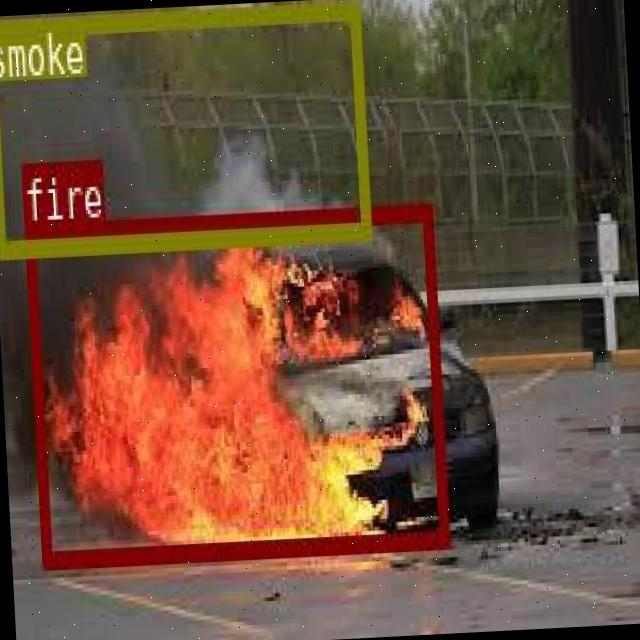fire: (24, 202, 446, 565)
smoke: (0, 0, 367, 255)
